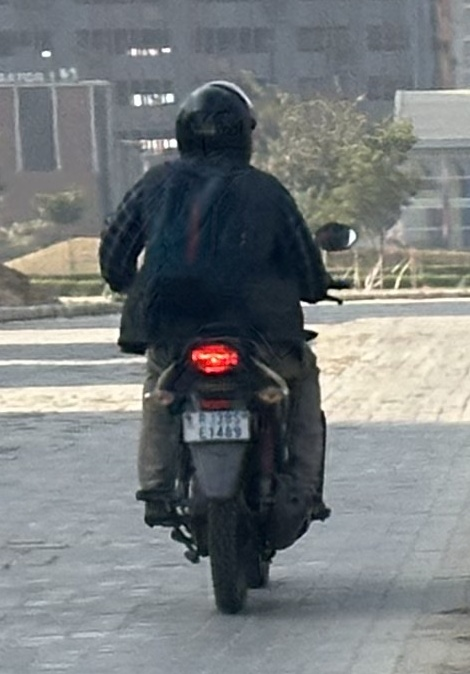BikeWithRider: (87, 72, 367, 621)
Helmet: (165, 74, 268, 176)
